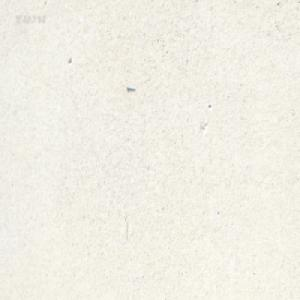Nail: (125, 85, 135, 90)
